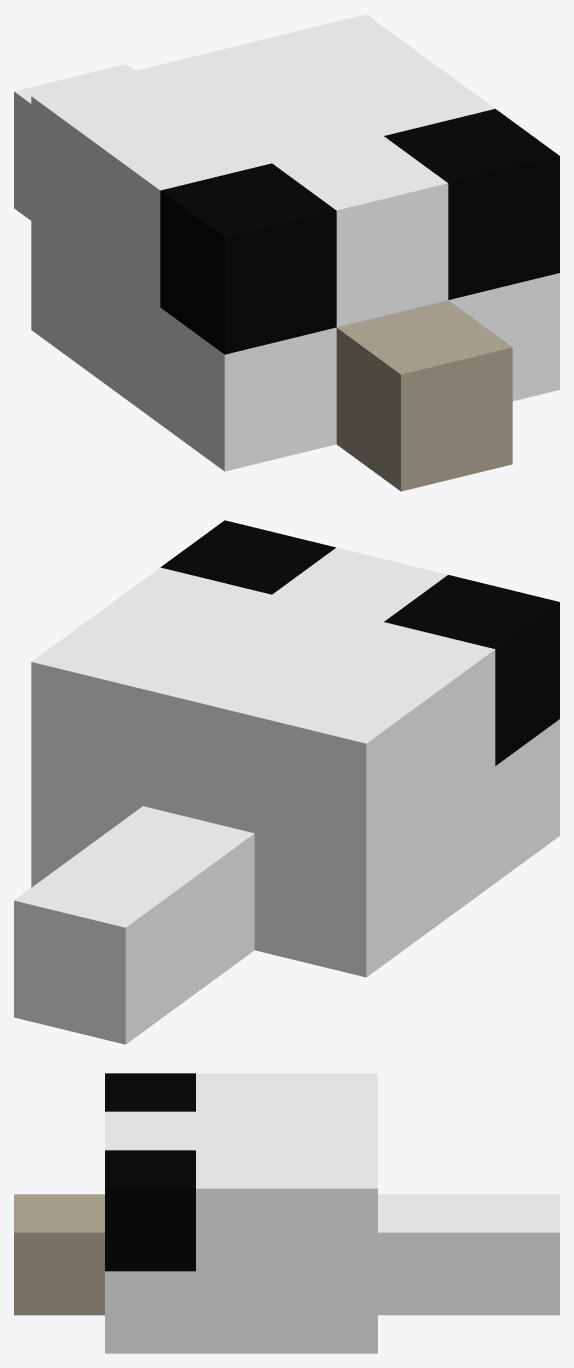
Rendered from Mouse 1.obj.
3 renders of one model, top to bottom at view 1: azimuth 30°, elevation 25°; view 2: azimuth 150°, elevation 25°; view 3: azimuth 270°, elevation 25°, orthographic. The views are drawn at different scales.
Bounding box in the file's own units: 3 × 2 × 6.
Materials: 1 (1 with a texture image).
